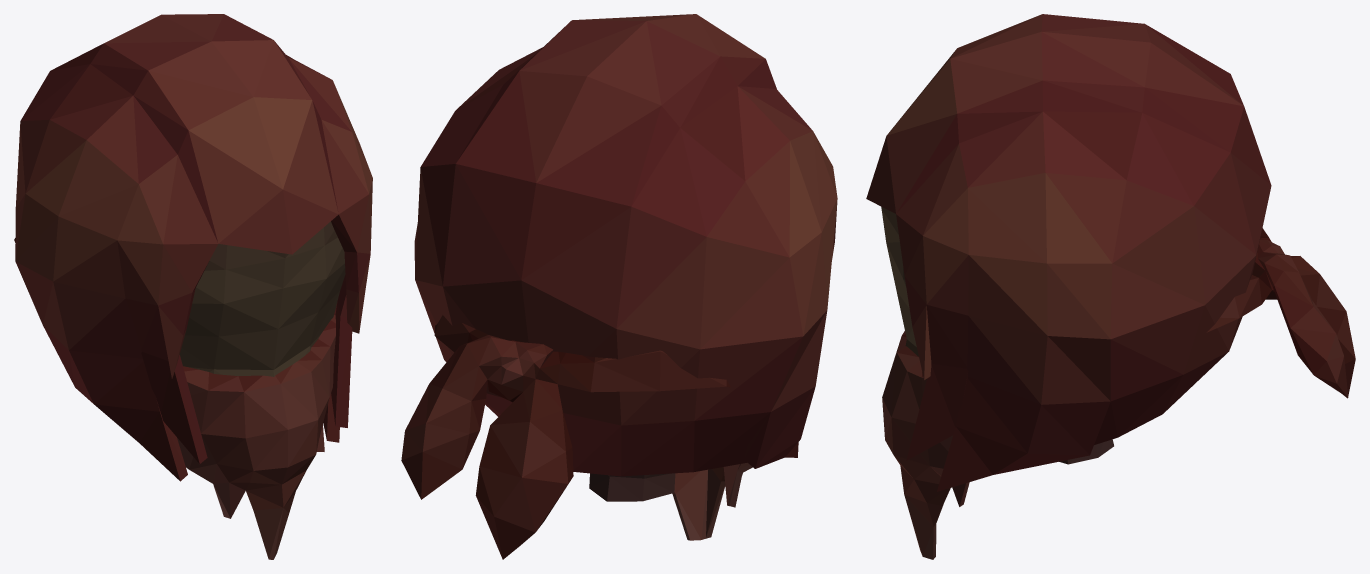
File: helm_darkskin_bob_red_bandana.fbx
The picture shows the model from 3 angles, left to right: view 1: azimuth 30°, elevation 25°; view 2: azimuth 150°, elevation 25°; view 3: azimuth 270°, elevation 25°; orthographic projection. The views are drawn at different scales.
Parts seen in each view (by area): view 1: helm_darkskin_bob_red_bandana; view 2: helm_darkskin_bob_red_bandana; view 3: helm_darkskin_bob_red_bandana.
Part boxes in pixels (x1,y1,x2,y2): helm_darkskin_bob_red_bandana: [14, 14, 372, 559]; helm_darkskin_bob_red_bandana: [401, 14, 837, 559]; helm_darkskin_bob_red_bandana: [866, 14, 1355, 559].
Bounding box in the file's own units: 1.18 × 1.65 × 1.4.
